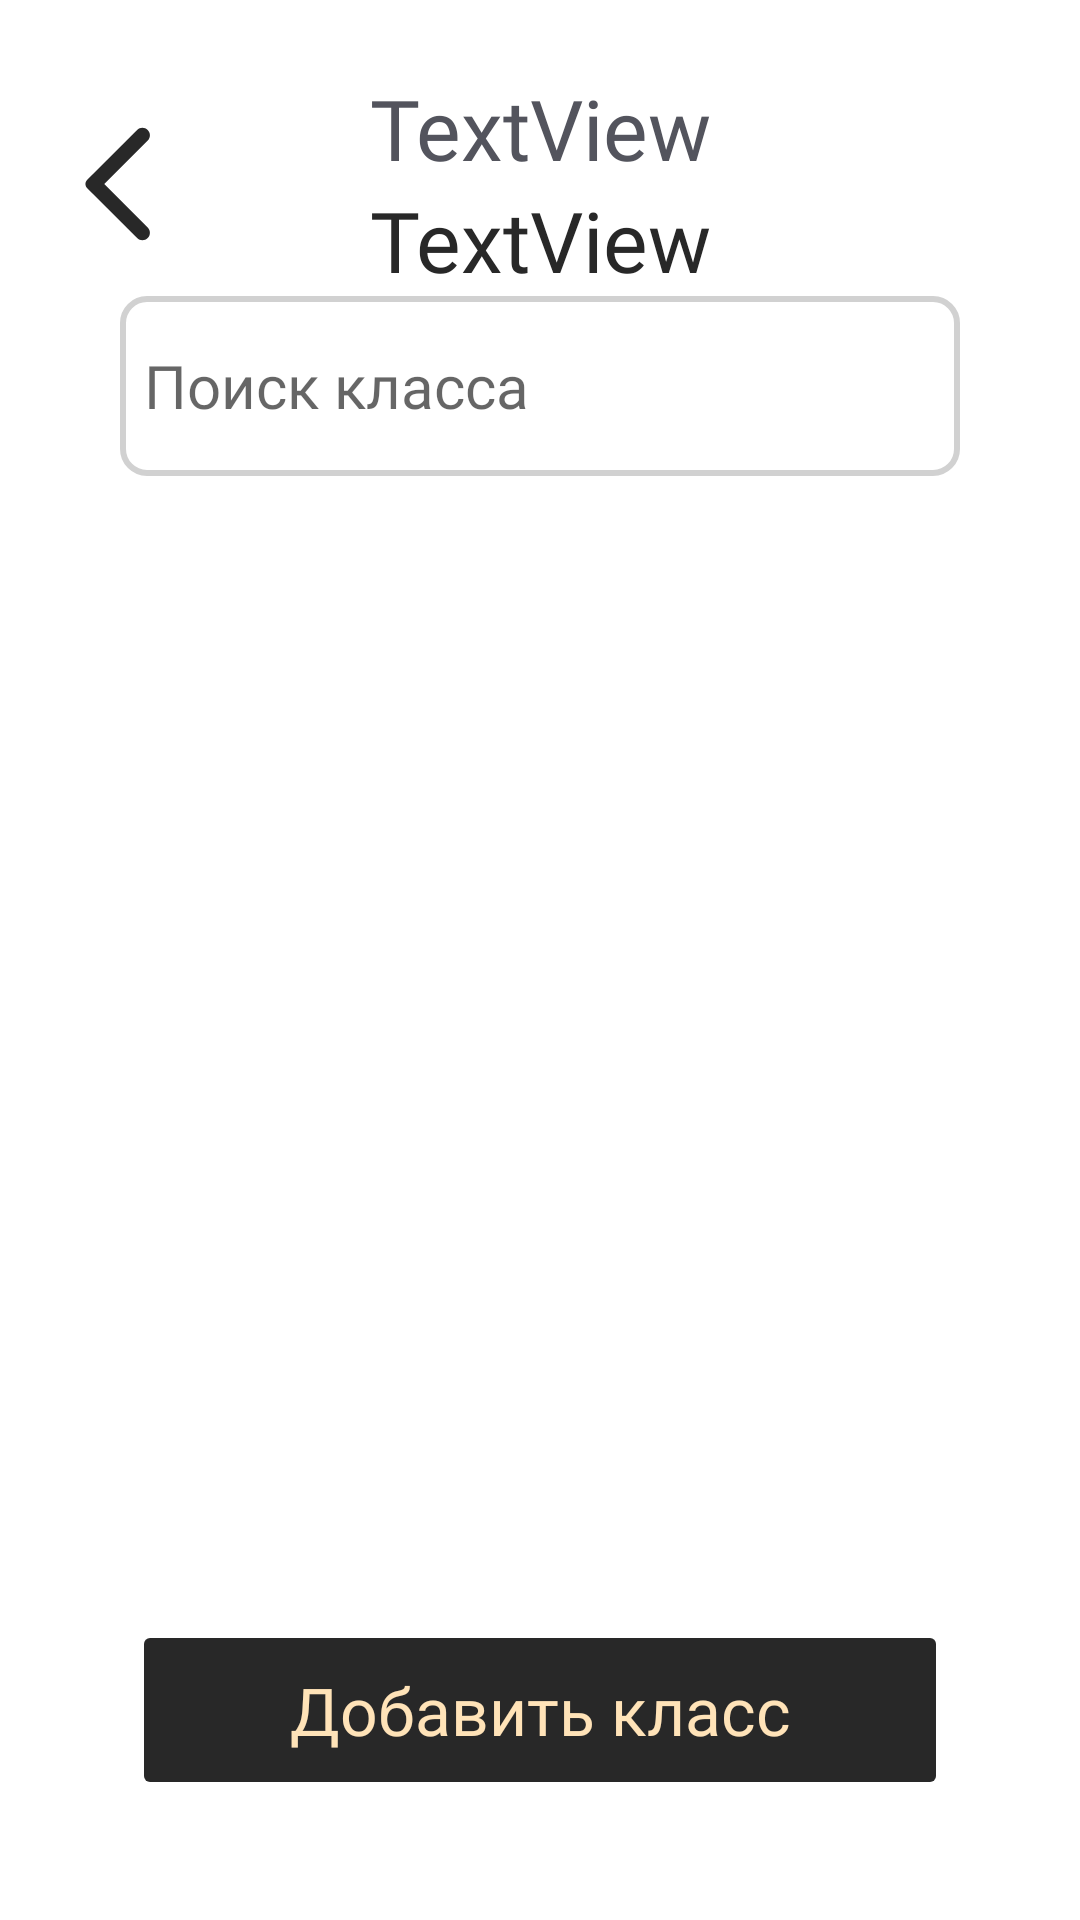

Named icons in this screenshot (1080x1920) and their centers, point (x, y):
back: point (117, 184)
